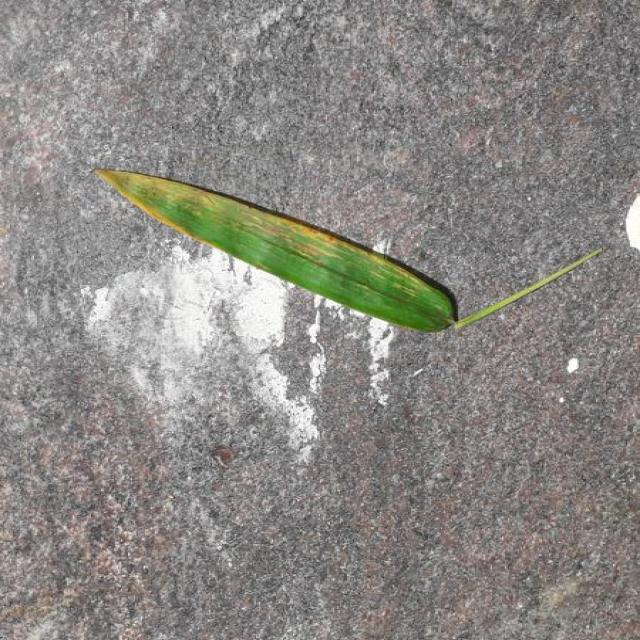defectedBamboo: (95, 169, 455, 331)
